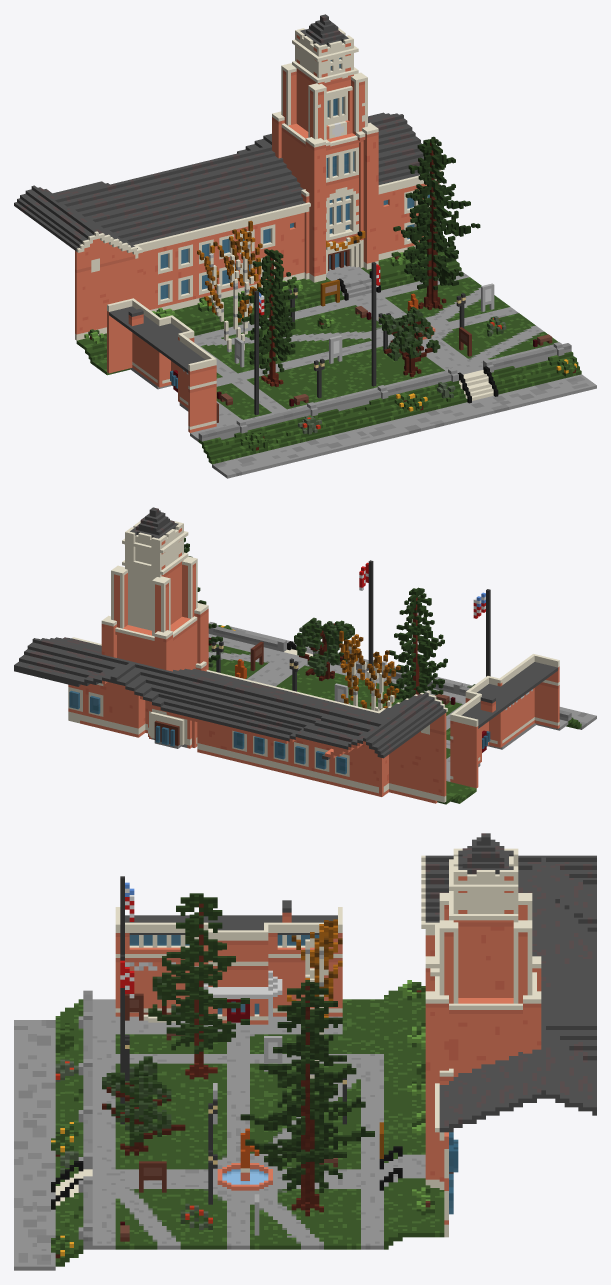
File: blackwell-academy.glb
3 renders of one model, top to bottom at view 1: azimuth 30°, elevation 25°; view 2: azimuth 150°, elevation 25°; view 3: azimuth 270°, elevation 25°, orthographic. The views are drawn at different scales.
Parts seen in each view (by area): view 1: Object_2, Object_3; view 2: Object_2, Object_3; view 3: Object_2.
Boxes of the visible parts, bbox=[...] form: Object_2: bbox=[14, 14, 596, 478]; Object_3: bbox=[161, 99, 429, 297]; Object_2: bbox=[14, 507, 596, 804]; Object_3: bbox=[14, 510, 476, 804]; Object_2: bbox=[14, 833, 596, 1270].
Bounding box in the file's own units: 12.6 × 8.8 × 12.6.
Materials: 1 (1 with a texture image).
